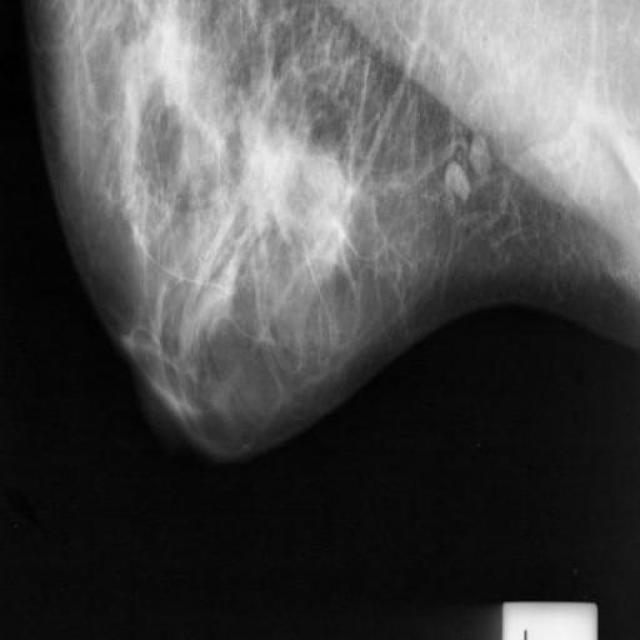cancer: (232, 114, 308, 246)
